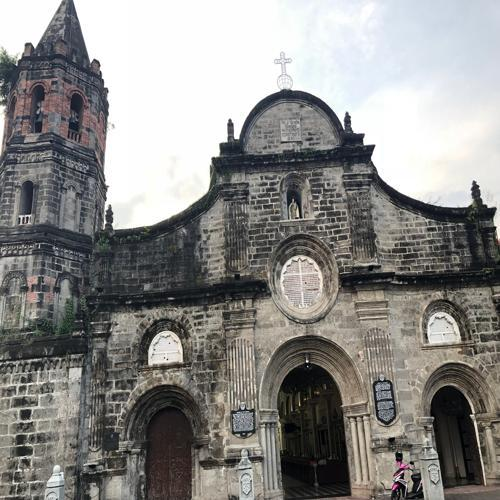Barasoain Church: (4, 1, 500, 499)
